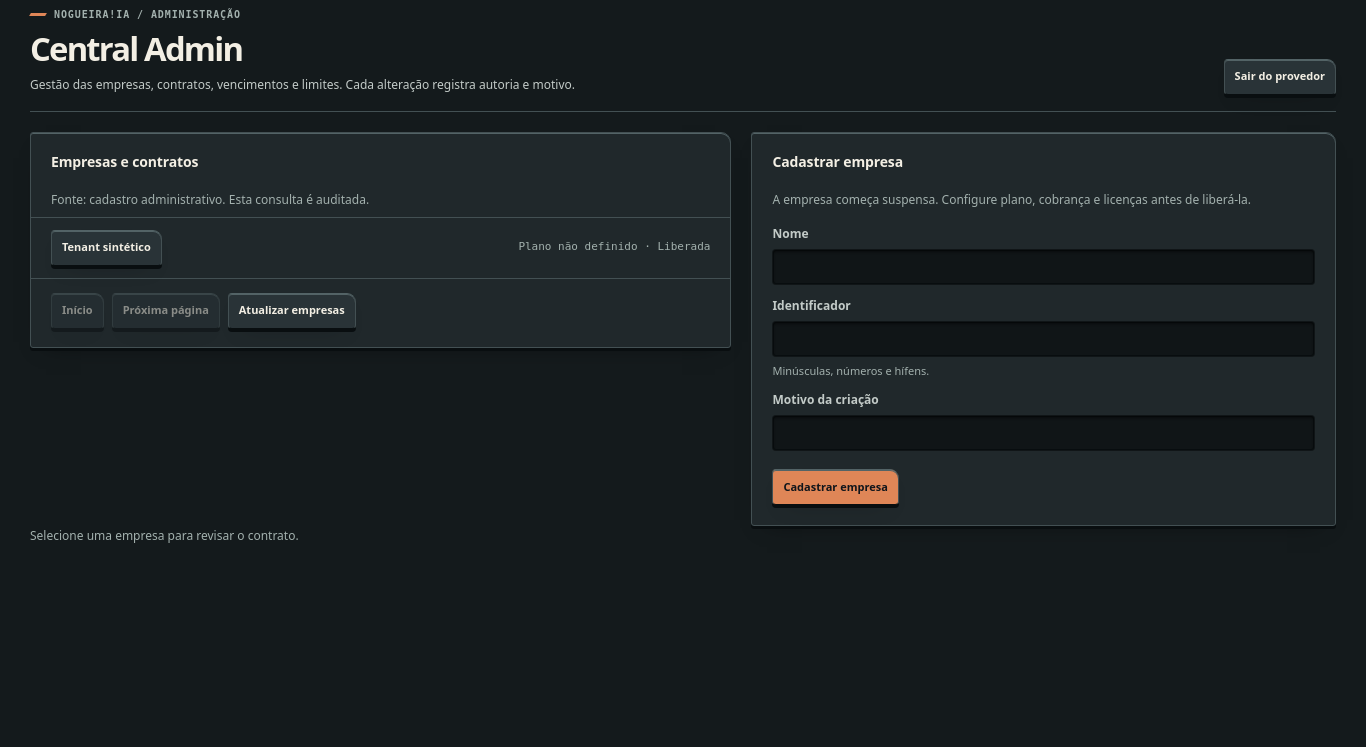
it: provider assigns the first verified administrator before release
Click the button "Tenant sintético": (106, 248) left=51, top=230, right=162, bottom=266
(page scrolled)
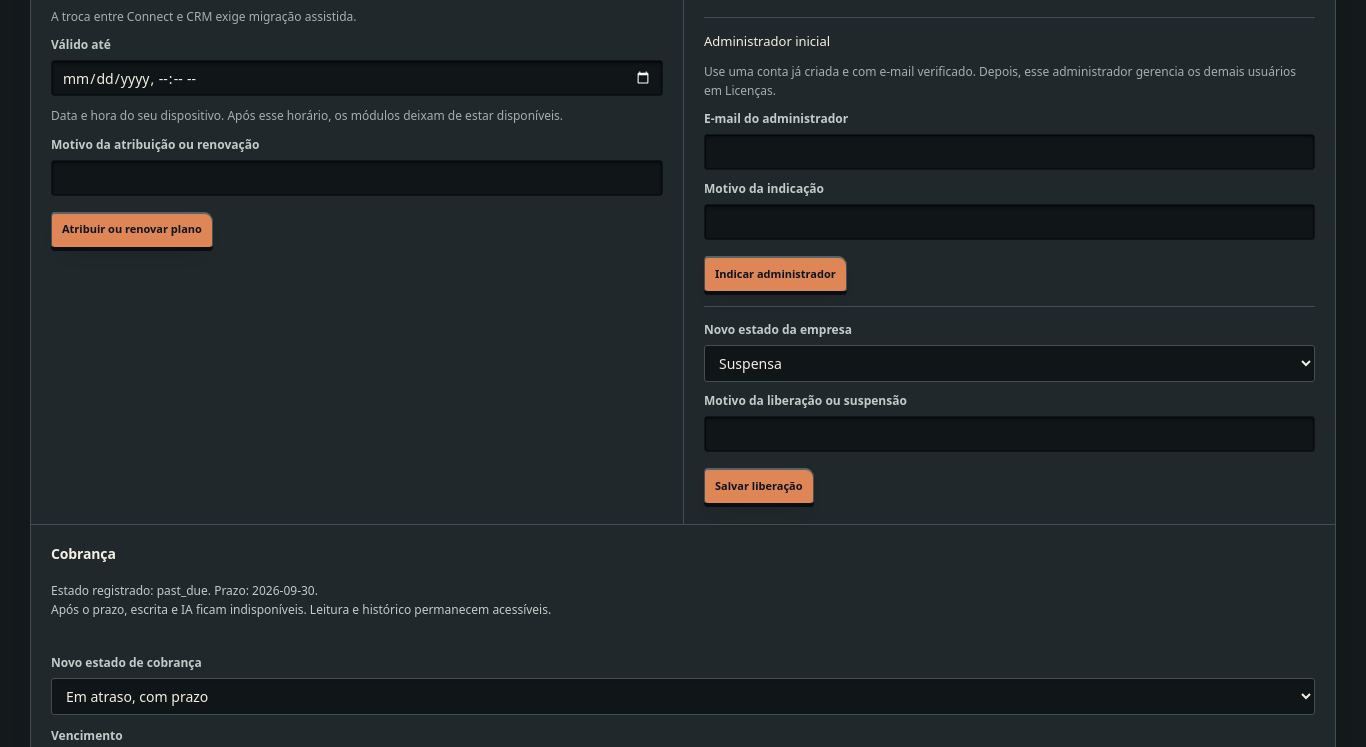
Select "Liberada" in the dropdown labelled "Novo estado da empresa": (1010, 364) left=704, top=345, right=1315, bottom=382
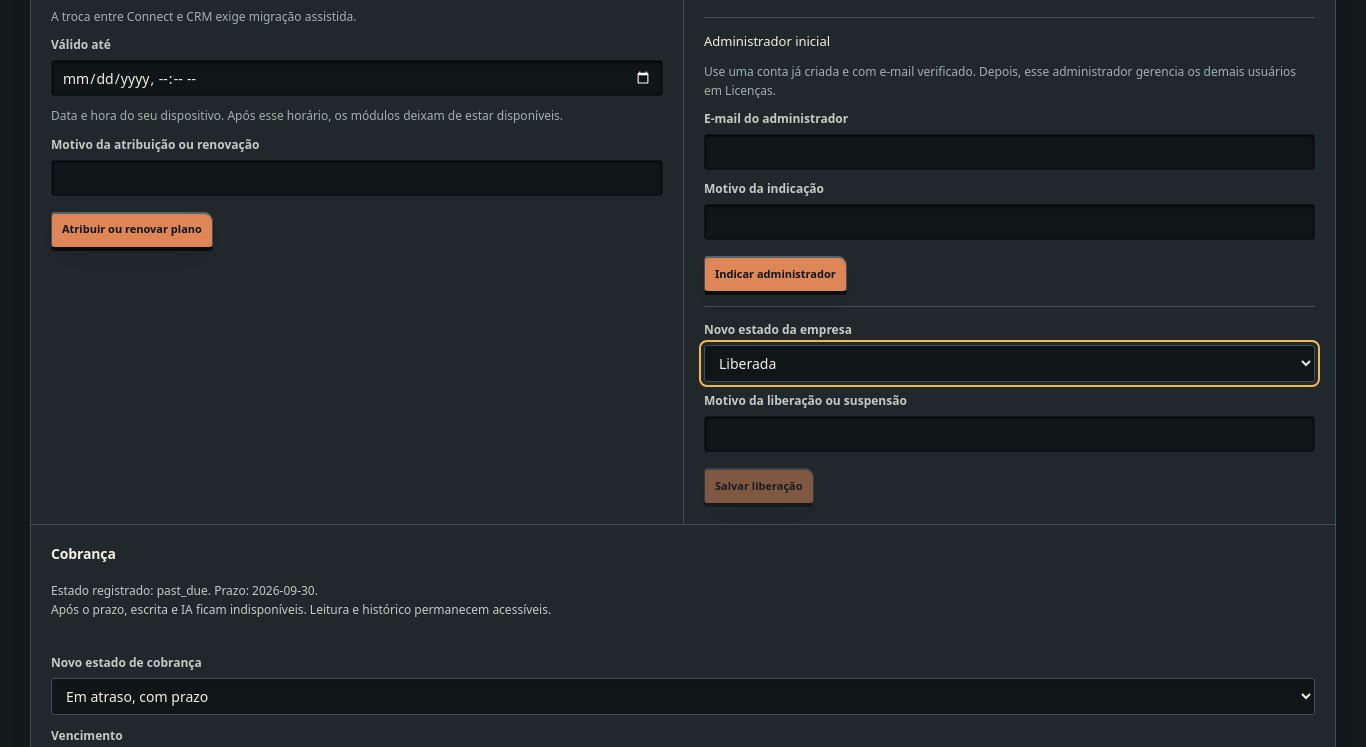
Result: the button "Salvar liberação" is disabled at left=704, top=468, right=814, bottom=504
In the field labelled "E-mail do administrador": (1010, 152) left=704, top=134, right=1315, bottom=170, type "gestor@example.com"
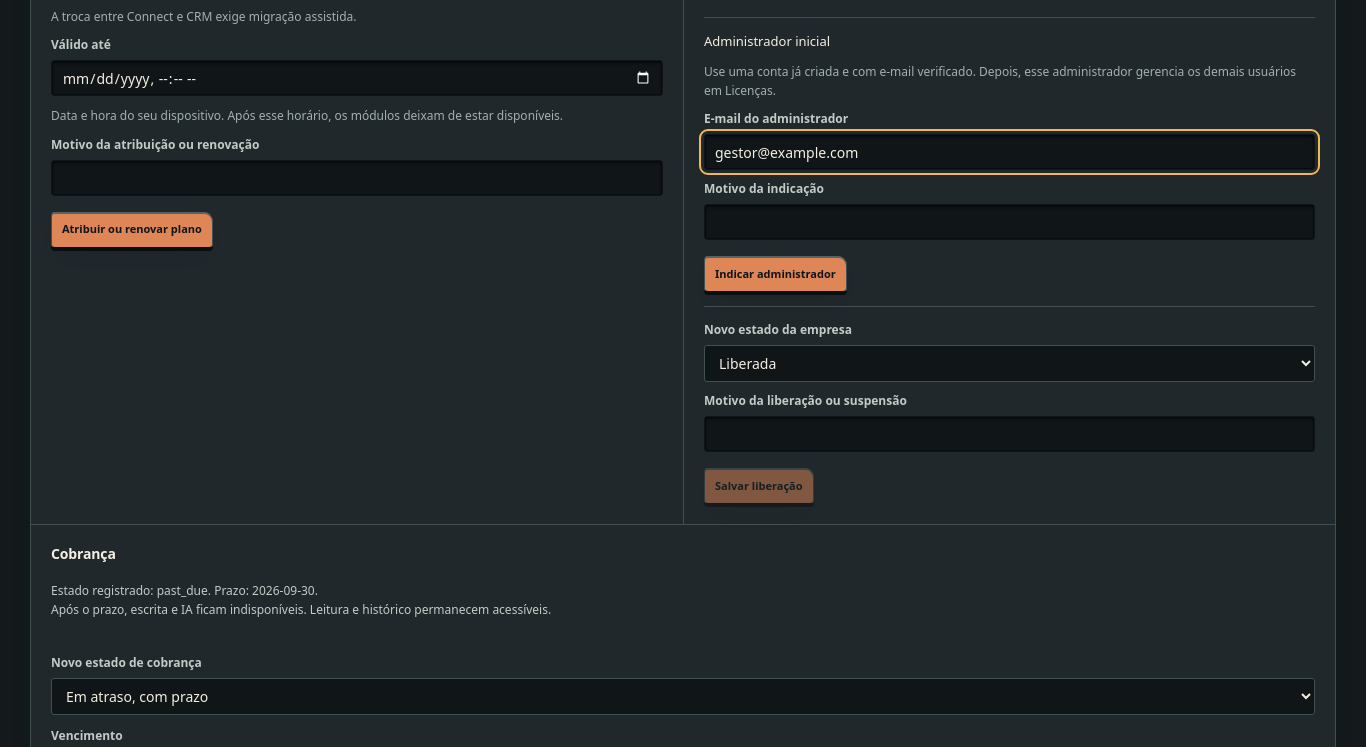
In the field labelled "Motivo da indicação": (1010, 222) left=704, top=204, right=1315, bottom=240, type "Responsável pelo contrato"
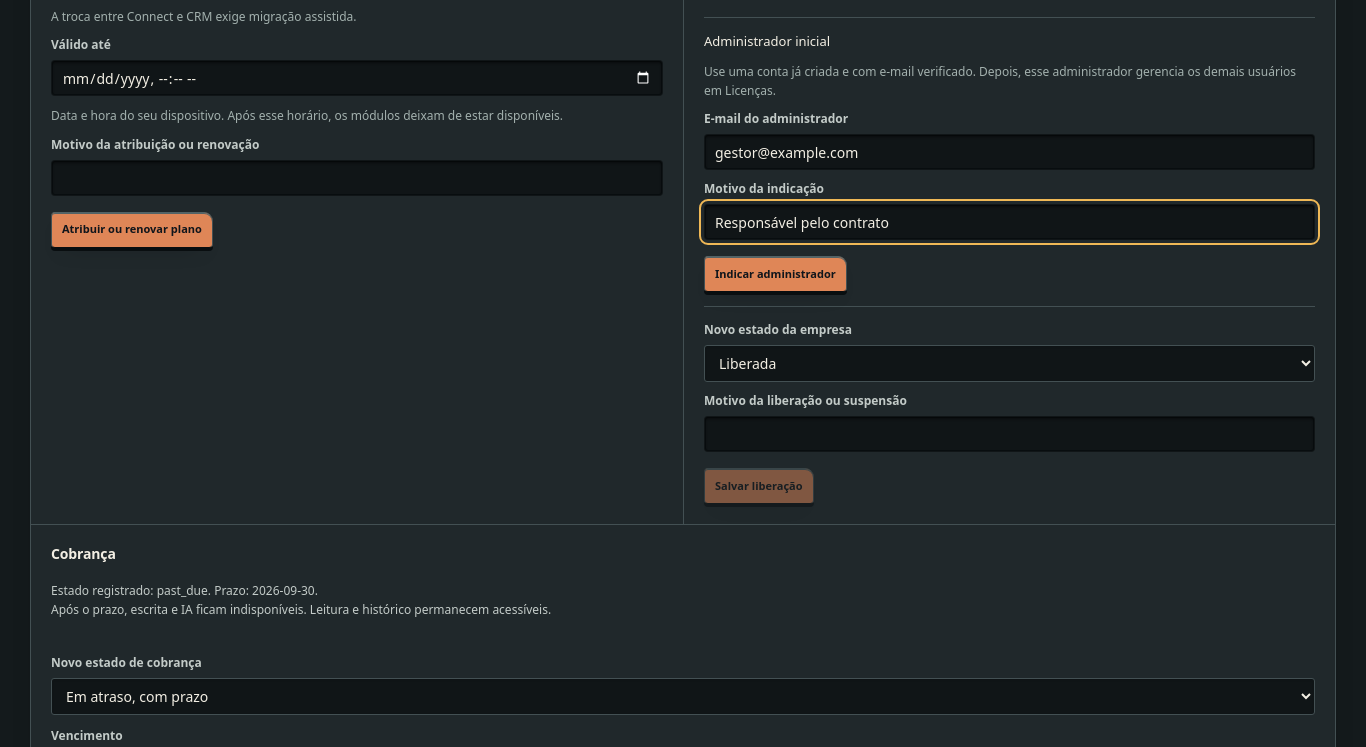
Click the button "Indicar administrador": (775, 274) left=704, top=256, right=847, bottom=292
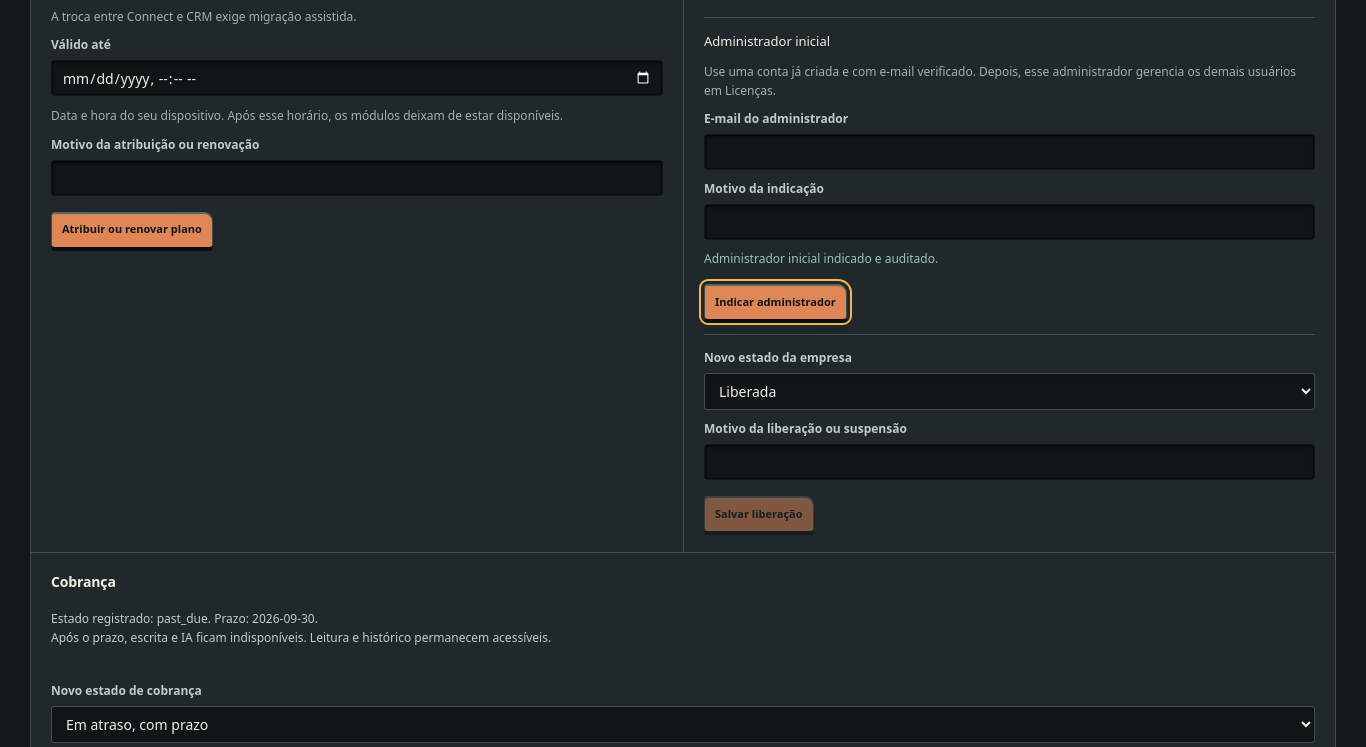
Result: the text "Administrador inicial indicado e auditado." is shown at left=704, top=250, right=938, bottom=267
